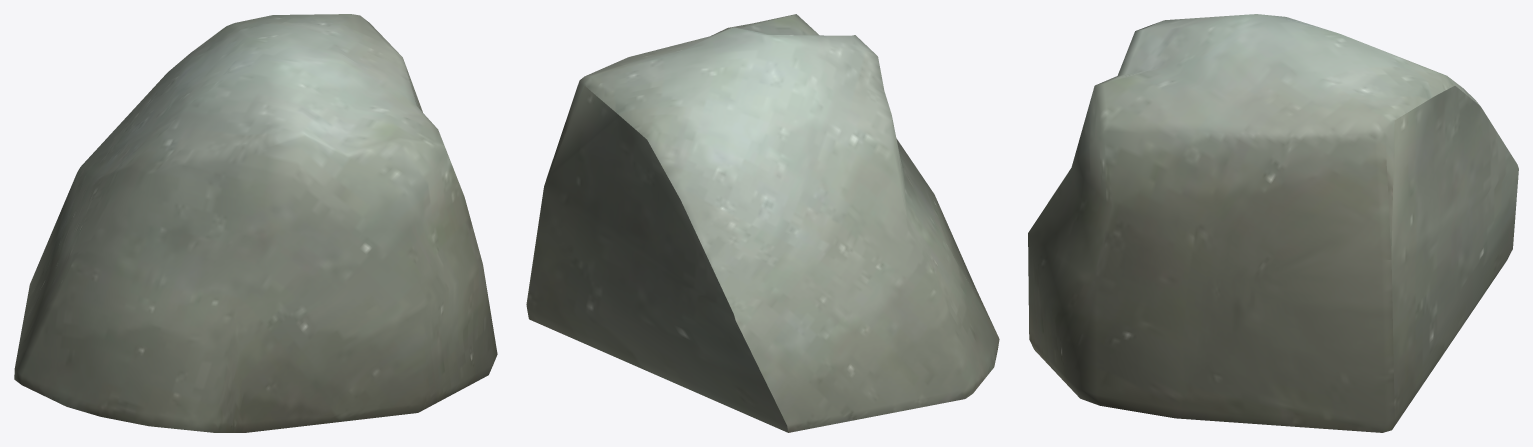
Rendered from rock-b.glb.
3 views of the same model, side by side, from view 1: azimuth 30°, elevation 25°; view 2: azimuth 150°, elevation 25°; view 3: azimuth 270°, elevation 25° (orthographic). The views are drawn at different scales.
Parts seen in each view (by area): view 1: StoneB_node1; view 2: StoneB_node1; view 3: StoneB_node1.
Part boxes in pixels (x1=…): StoneB_node1: x1=14, y1=14, x2=497, y2=432; StoneB_node1: x1=526, y1=14, x2=999, y2=432; StoneB_node1: x1=1028, y1=14, x2=1518, y2=432.
Bounding box in the file's own units: 0.9153 × 0.5874 × 0.8358.
Materials: 1 (1 with a texture image).
